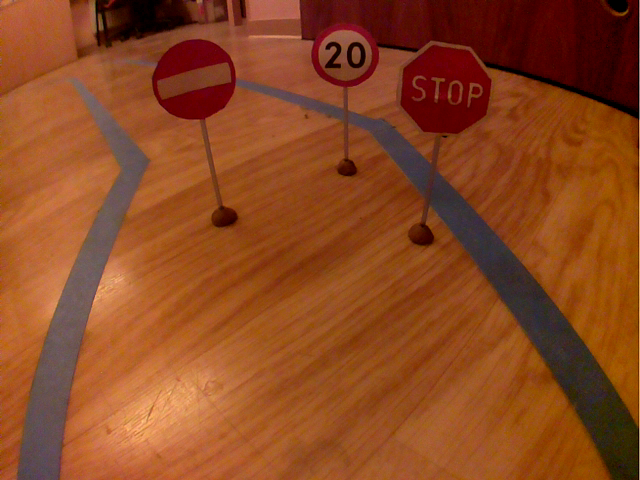Ograniczenie 20: (307, 19, 383, 90)
Stop: (391, 37, 497, 140)
Zakaz: (147, 36, 241, 124)
